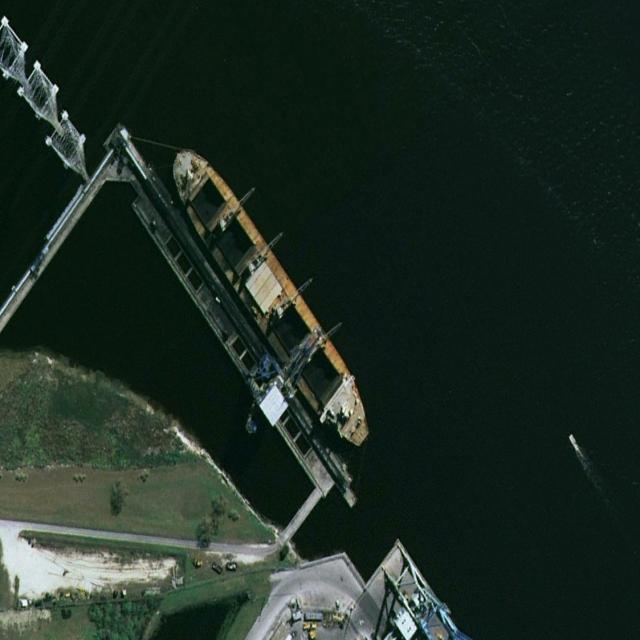Cargo: (160, 131, 382, 463)
